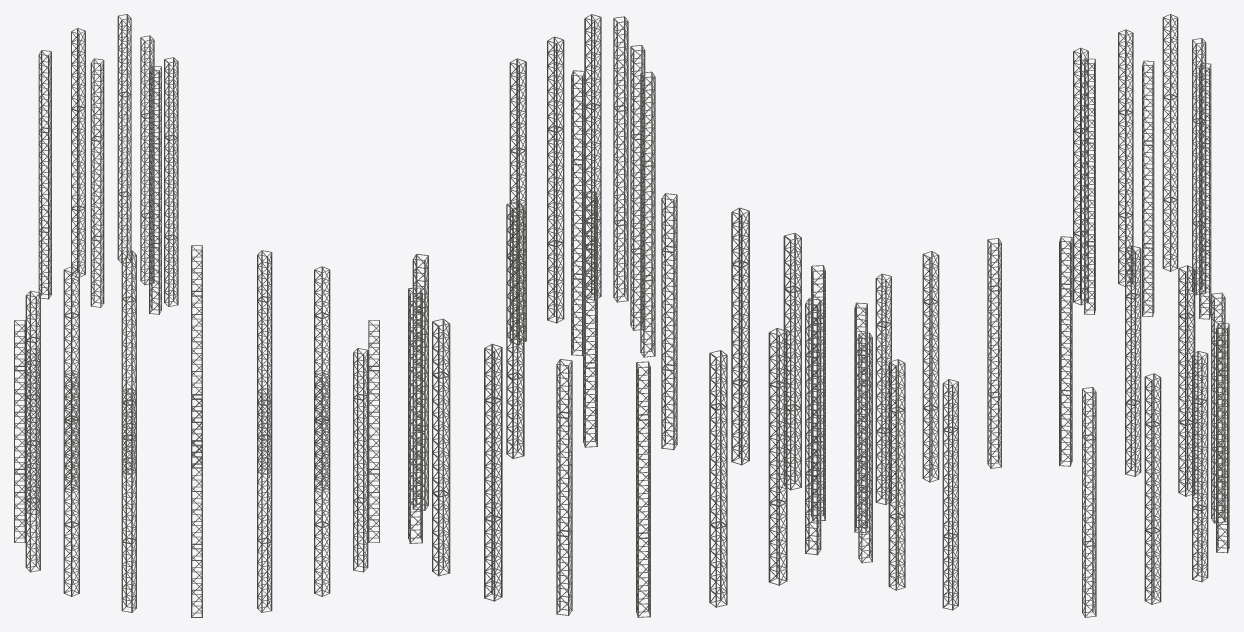
Rendered from field_winter_frame_center.fbx.
3 views of the same model, side by side, from view 1: azimuth 30°, elevation 25°; view 2: azimuth 150°, elevation 25°; view 3: azimuth 270°, elevation 25° (orthographic). The views are drawn at different scales.
Parts seen in each view (by area): view 1: fielad_winter_center_frame6, fielad_winter_center_frame9; view 2: fielad_winter_center_frame6, fielad_winter_center_frame9; view 3: fielad_winter_center_frame6, fielad_winter_center_frame9.
Part boxes in pixels (<box>): fielad_winter_center_frame6: <box>14,245,379,617</box>; fielad_winter_center_frame9: <box>38,14,178,314</box>; fielad_winter_center_frame6: <box>408,191,825,617</box>; fielad_winter_center_frame9: <box>509,14,655,357</box>; fielad_winter_center_frame6: <box>854,236,1229,617</box>; fielad_winter_center_frame9: <box>1073,14,1211,319</box>.
Size of the model in its own units: 826 by 1174 by 835.
1 material, 1 textured.
